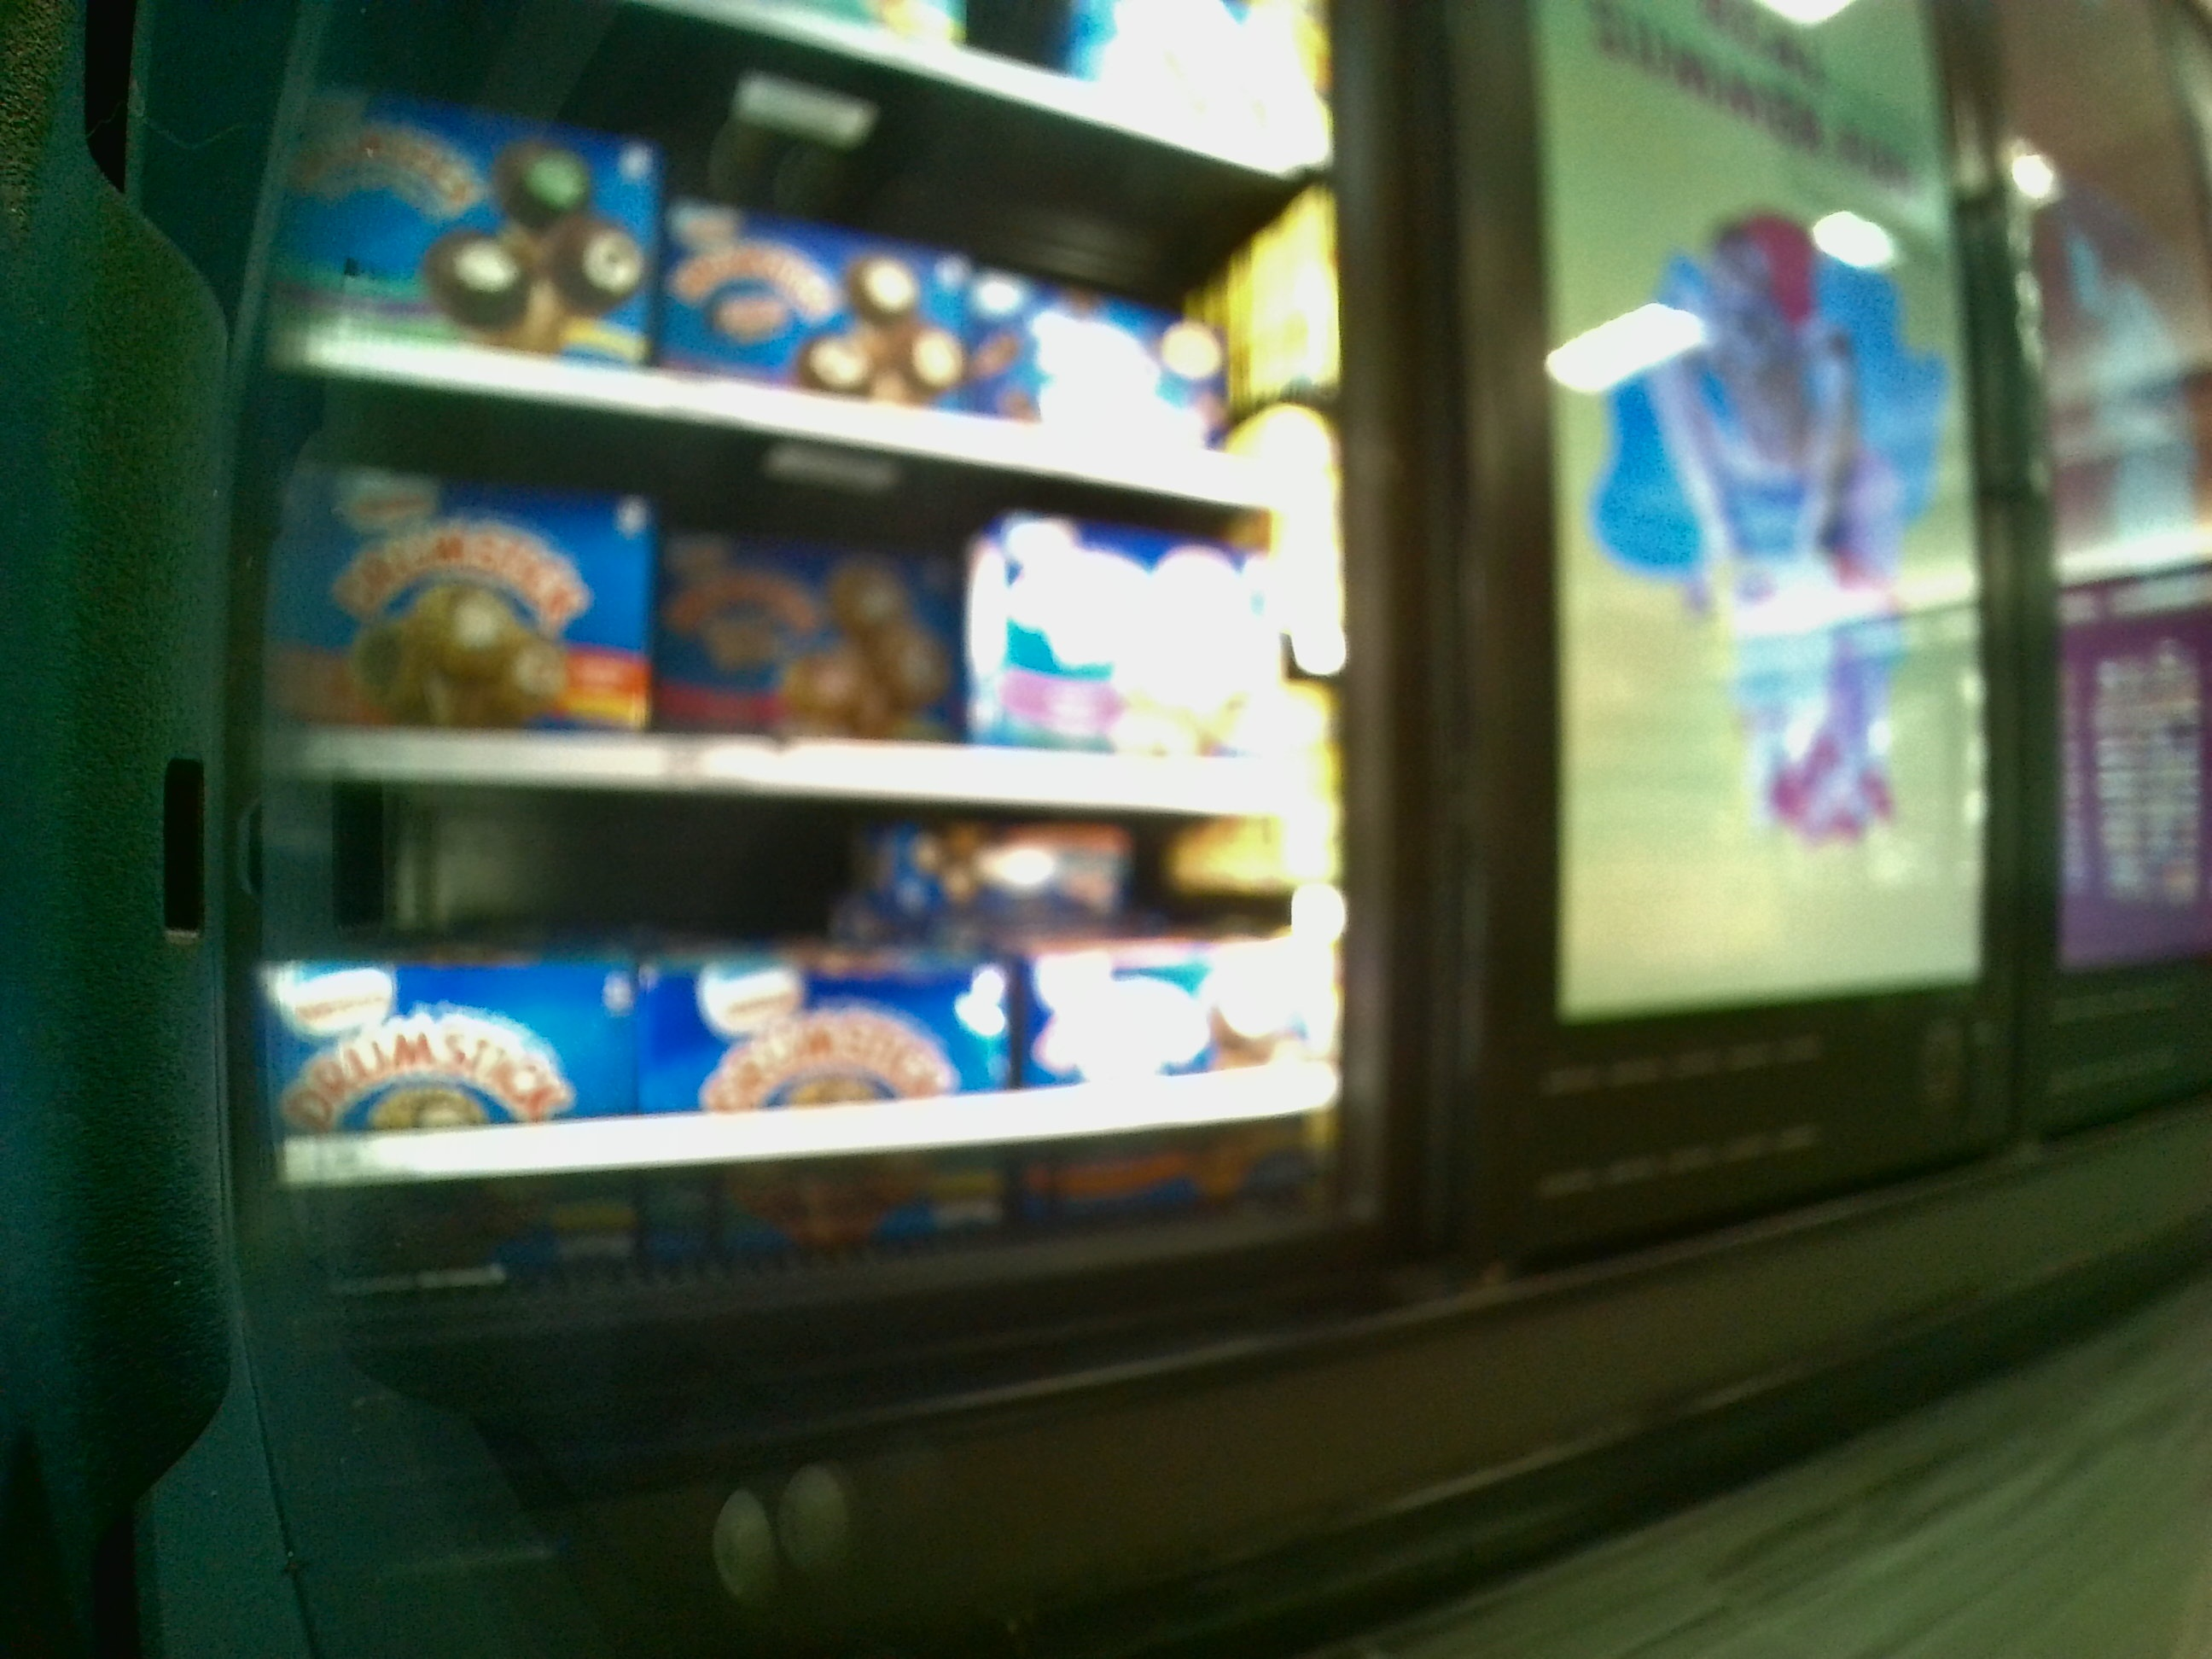shelf: (286, 816, 1341, 1260), (266, 429, 1322, 823)
